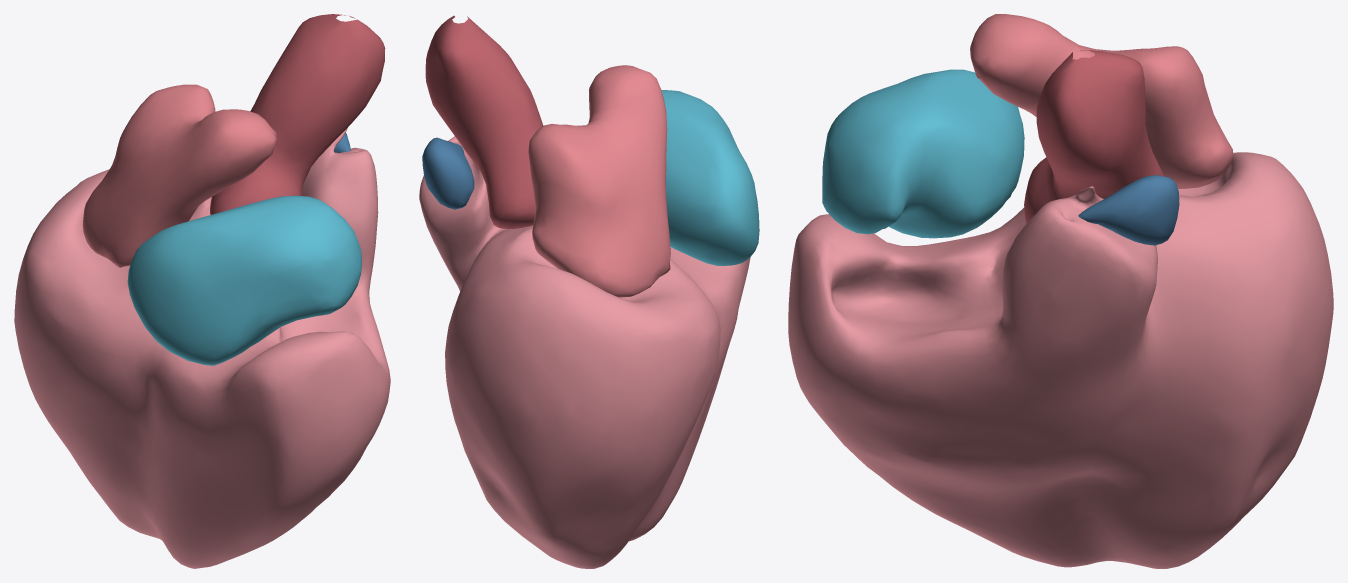
Rendered from frame_31.glb.
3 views of the same model, side by side, from view 1: azimuth 30°, elevation 25°; view 2: azimuth 150°, elevation 25°; view 3: azimuth 270°, elevation 25° (orthographic). The views are drawn at different scales.
Visible parts, largest first — view 1: Renderer Node; view 2: Renderer Node; view 3: Renderer Node.
Boxes of the visible parts, x1,y1,x2,y2 form: Renderer Node: (14,14,390,568); Renderer Node: (419,15,759,568); Renderer Node: (788,14,1333,568).
Size of the model in its own units: 106 by 163 by 132.
